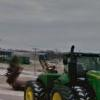Tractor: (20, 42, 100, 100)
